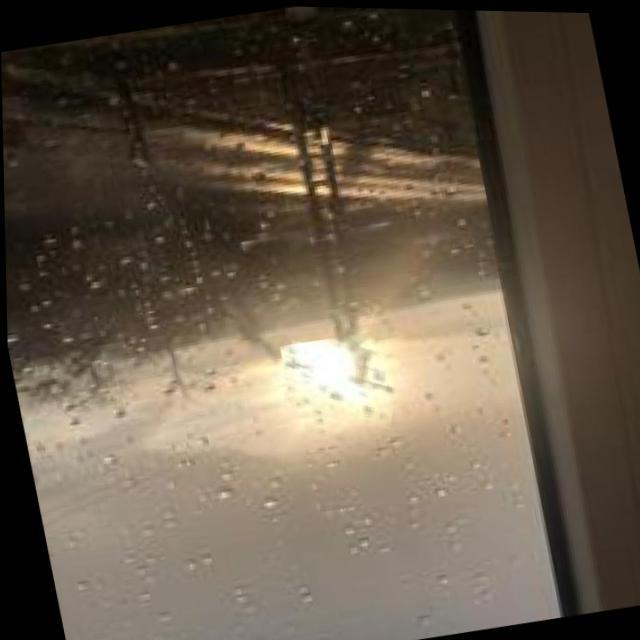sun: (283, 338, 393, 414)
